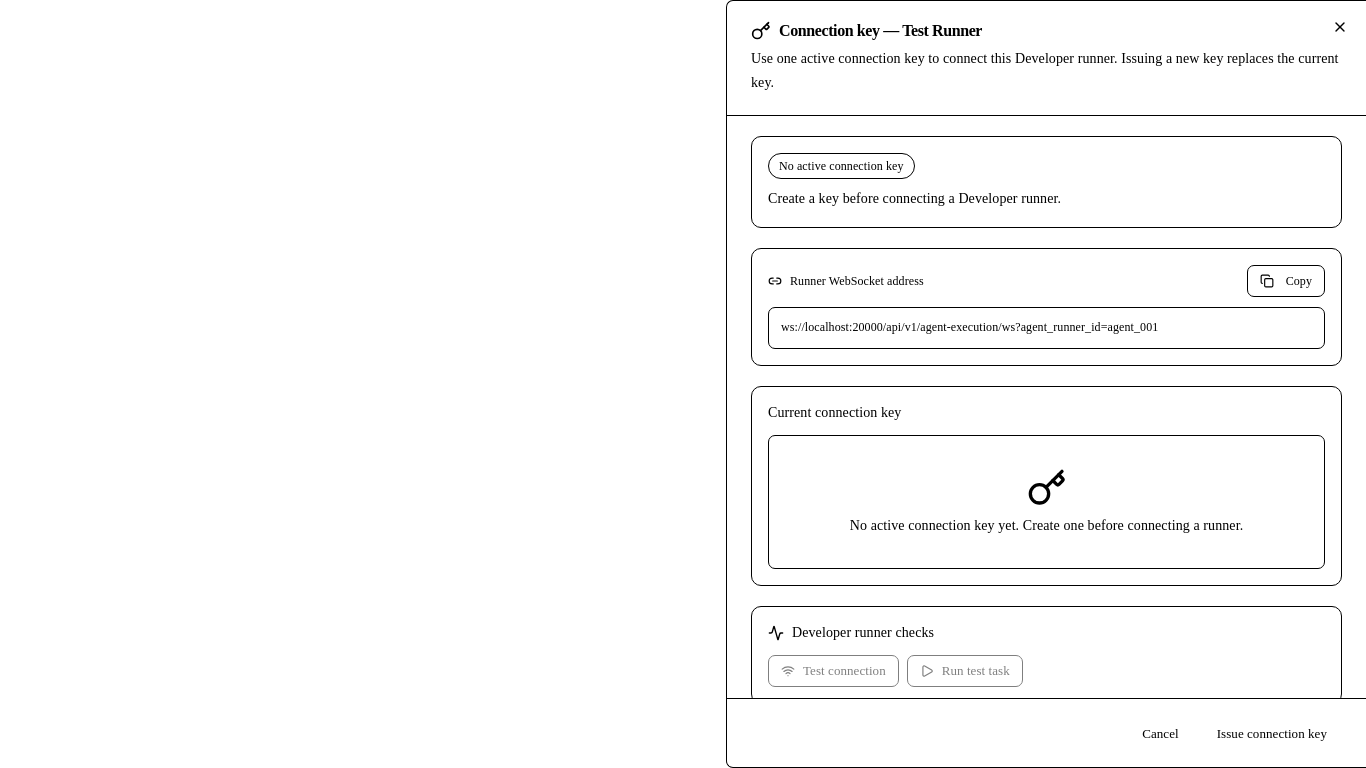
Test: AgentRunnerKeysDialog › Key Creation › shows loading state during creation
This screenshot has width=1366, height=768.
Step 1. Click the button "Issue connection key" → (1272, 733), box top-left (1202, 715), bottom-right (1342, 751)
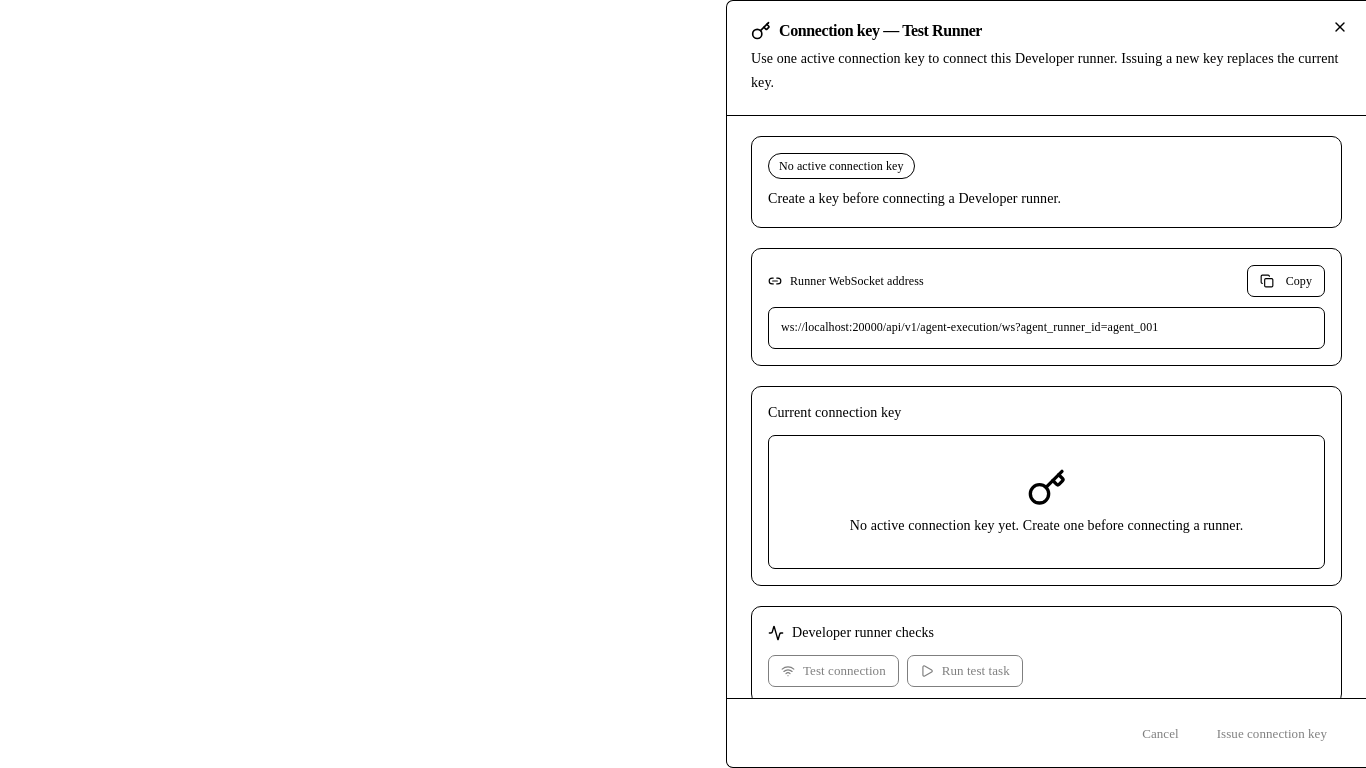
Expected: the button "Issue connection key" is disabled, top-left (1202, 715), bottom-right (1342, 751)
